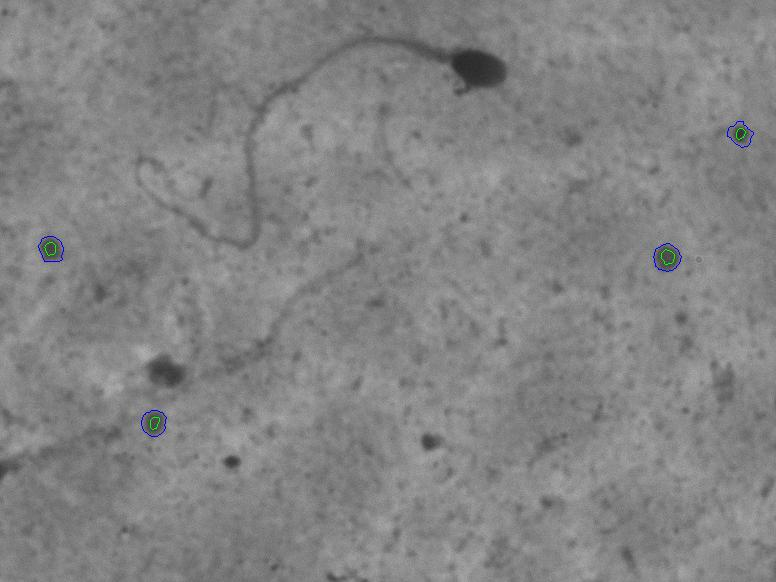Normal: (108, 13, 522, 271)
